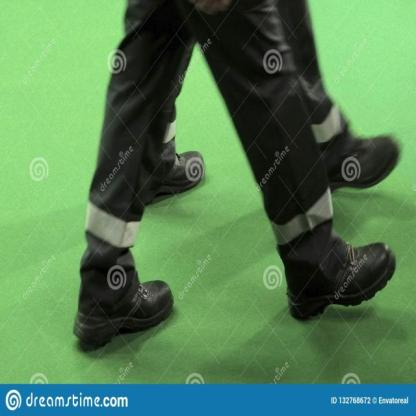bota: (285, 238, 402, 324), (72, 275, 178, 350), (330, 131, 406, 193), (154, 147, 209, 204)
